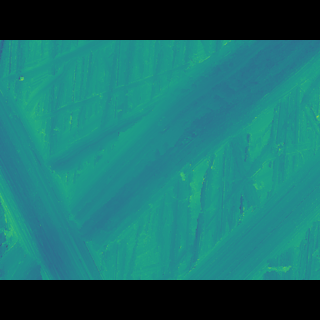Loch: (0, 69, 320, 249)
